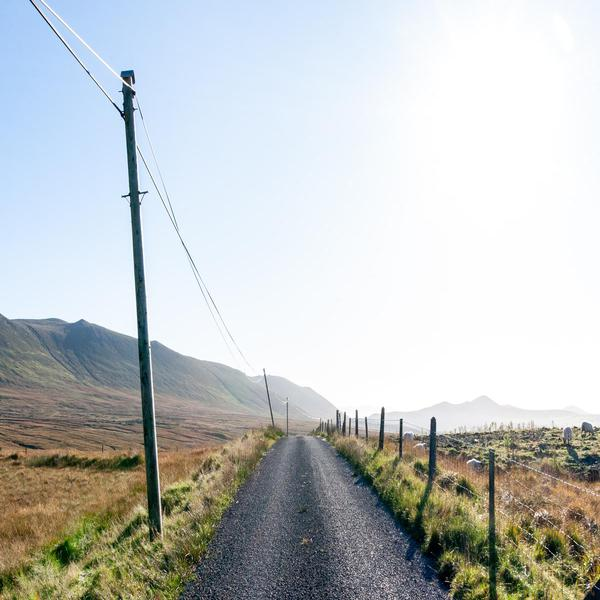utility_pole: (93, 50, 163, 207)
